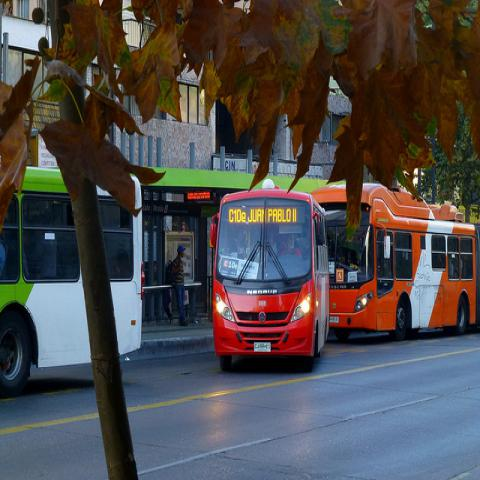bus: (0, 169, 144, 396), (307, 176, 478, 343), (210, 192, 330, 374)
